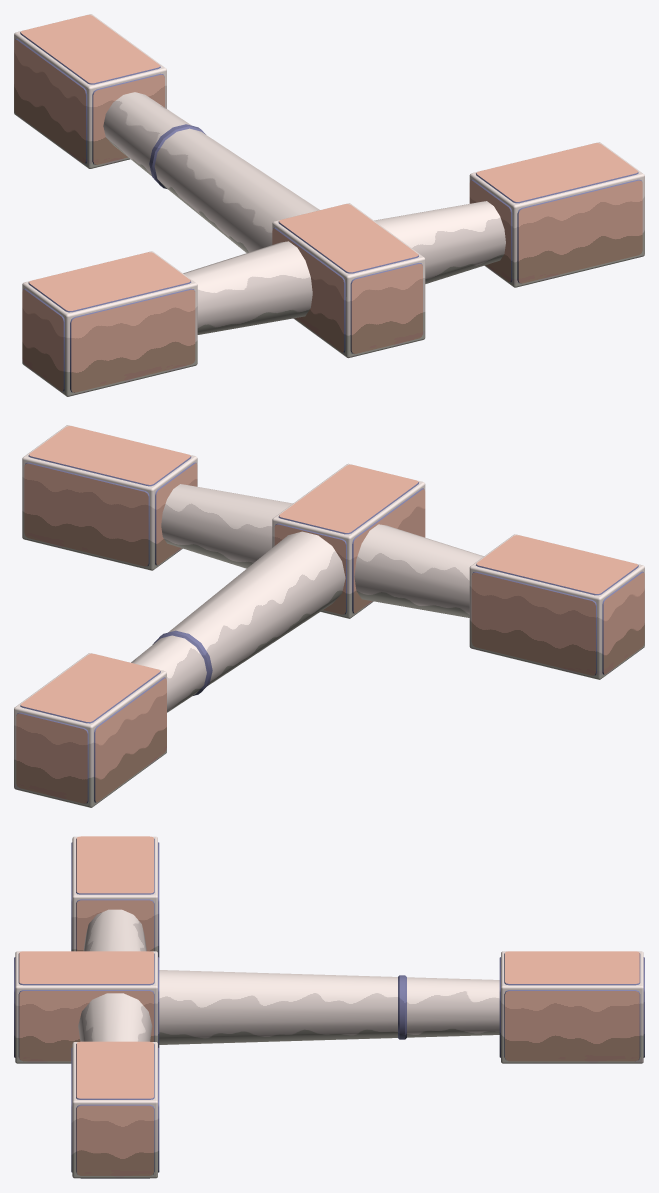
File: R4C_ROD_T.glb
3 views of the same model, one above another, from view 1: azimuth 30°, elevation 25°; view 2: azimuth 150°, elevation 25°; view 3: azimuth 270°, elevation 25° (orthographic). The views are drawn at different scales.
Parts seen in each view (by area): view 1: R4C_ROD_T; view 2: R4C_ROD_T; view 3: R4C_ROD_T.
Part boxes in pixels (x1,y1,x2,y2): R4C_ROD_T: (14, 14, 644, 396); R4C_ROD_T: (14, 425, 644, 807); R4C_ROD_T: (14, 836, 644, 1178).
Size of the model in its own units: 1.62 by 0.226 by 1.62.
3 materials, 3 textured.
